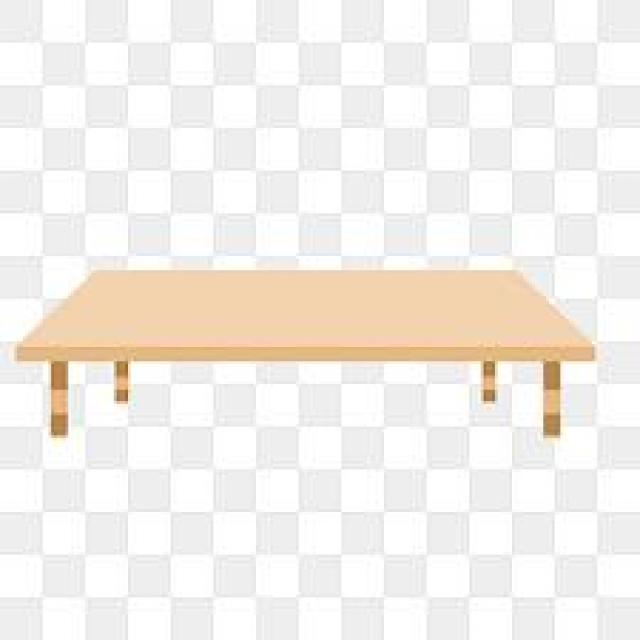desk: (16, 171, 598, 492)
